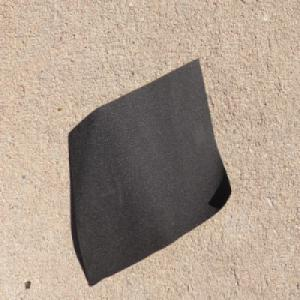PaintChip: (67, 55, 233, 287)
